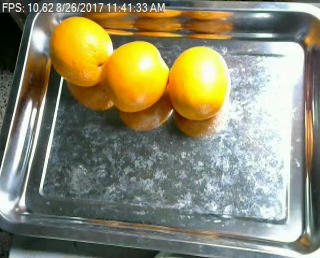Orange: (168, 46, 230, 120), (106, 41, 170, 111), (52, 15, 112, 86)
